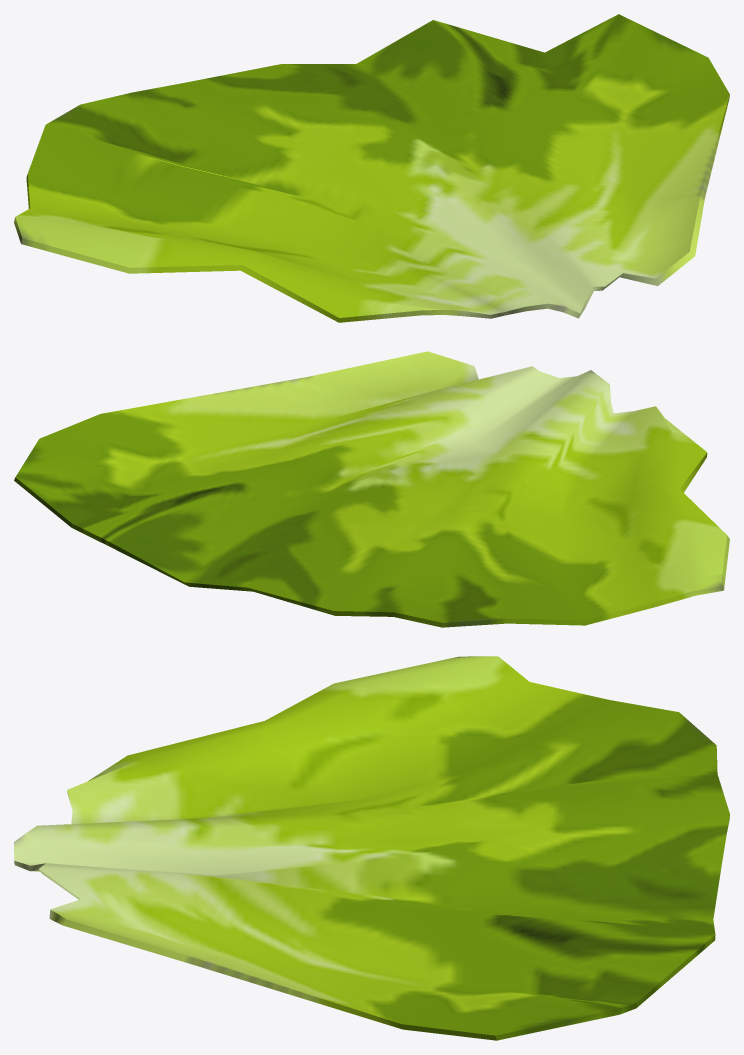
The model's file is salad.FBX.
The picture shows the model from 3 angles, top to bottom: view 1: azimuth 30°, elevation 25°; view 2: azimuth 150°, elevation 25°; view 3: azimuth 270°, elevation 25°; orthographic projection. The views are drawn at different scales.
Parts seen in each view (by area): view 1: salad; view 2: salad; view 3: salad.
Boxes of the visible parts, box(x1,y1,x2,y2) form: salad: box(14, 14, 729, 322); salad: box(14, 351, 729, 627); salad: box(14, 656, 729, 1040).
Size of the model in its own units: 14.25 by 0.8002 by 11.45.
